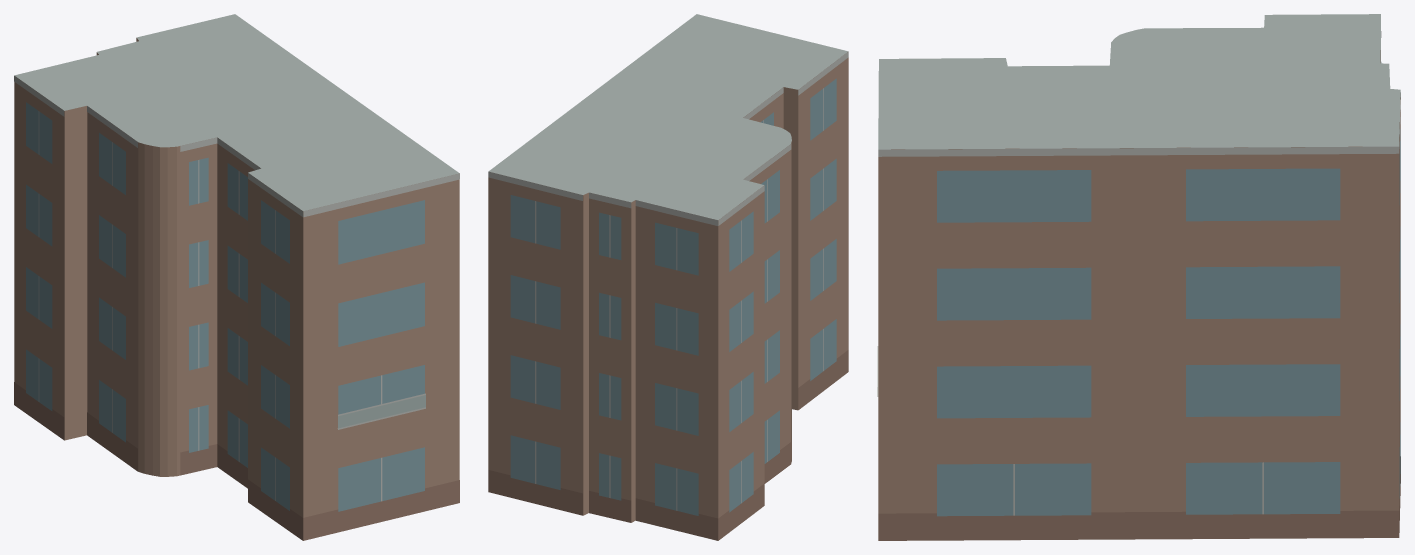
Rendered from survey-upis-32472303.glb.
The picture shows the model from 3 angles, left to right: view 1: azimuth 30°, elevation 25°; view 2: azimuth 150°, elevation 25°; view 3: azimuth 270°, elevation 25°; orthographic projection. The views are drawn at different scales.
Parts seen in each view (by area): view 1: survey-upis-32472303.tmp; view 2: survey-upis-32472303.tmp; view 3: survey-upis-32472303.tmp.
Part boxes in pixels (x1,y1,x2,y2): survey-upis-32472303.tmp: (14, 14, 459, 540); survey-upis-32472303.tmp: (488, 14, 848, 540); survey-upis-32472303.tmp: (877, 14, 1400, 540).
Bounding box in the file's own units: 9.7 × 13.05 × 15.83.
